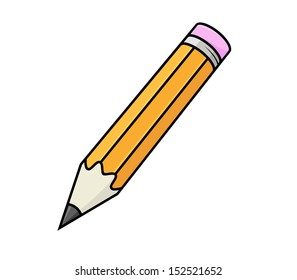pencil: (29, 14, 247, 240)
